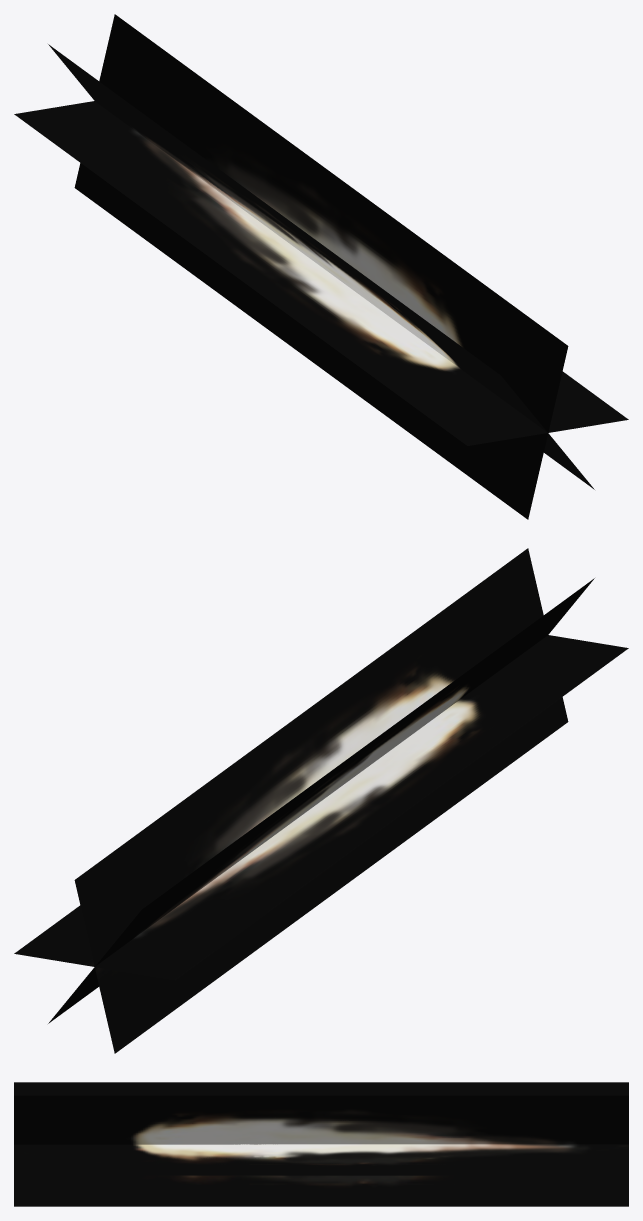
The model's file is S_FX_Generic_Bullet.FBX.
The picture shows the model from 3 angles, top to bottom: view 1: azimuth 30°, elevation 25°; view 2: azimuth 150°, elevation 25°; view 3: azimuth 270°, elevation 25°; orthographic projection. The views are drawn at different scales.
Visible parts, largest first — view 1: Bullet; view 2: Bullet; view 3: Bullet.
Boxes of the visible parts, x1=… form: Bullet: x1=14, y1=14, x2=628, y2=519; Bullet: x1=14, y1=548, x2=628, y2=1053; Bullet: x1=14, y1=1082, x2=628, y2=1206.
Size of the model in its own units: 1.52 by 1.47 by 7.38.
